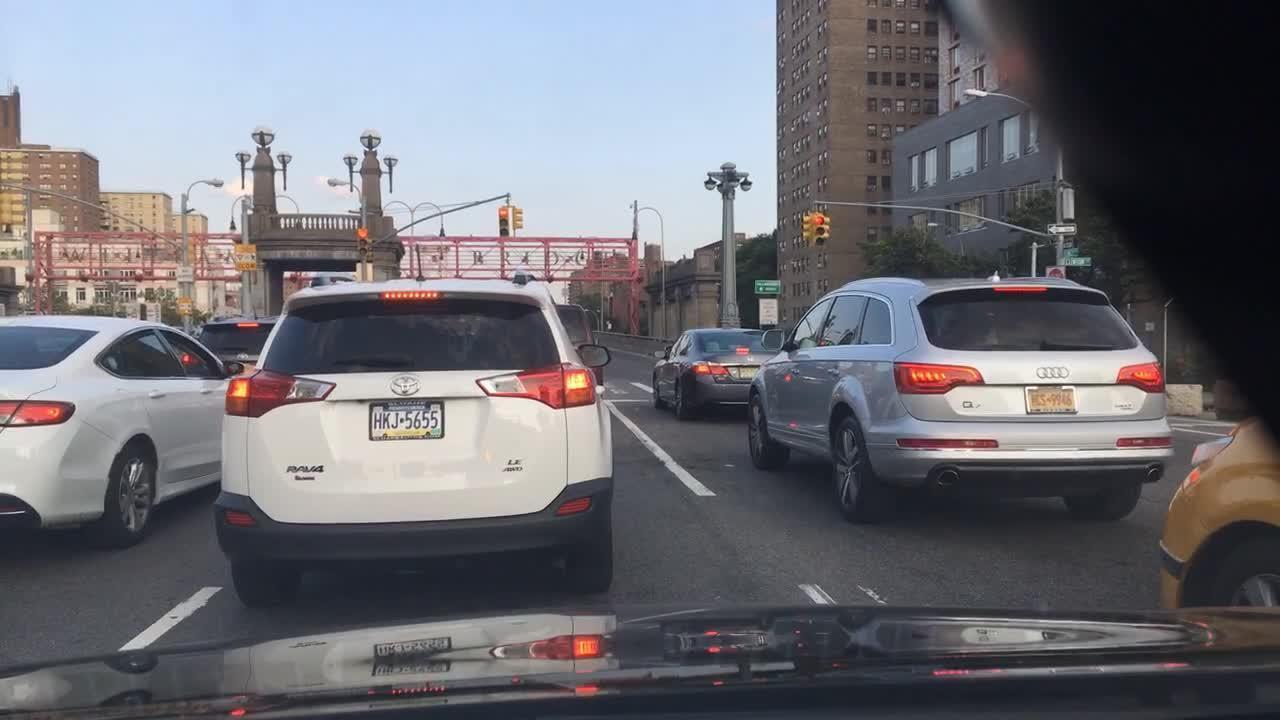Audi: (1032, 362, 1072, 383)
Honda: (742, 353, 755, 364)
Toyota: (378, 368, 436, 402)
